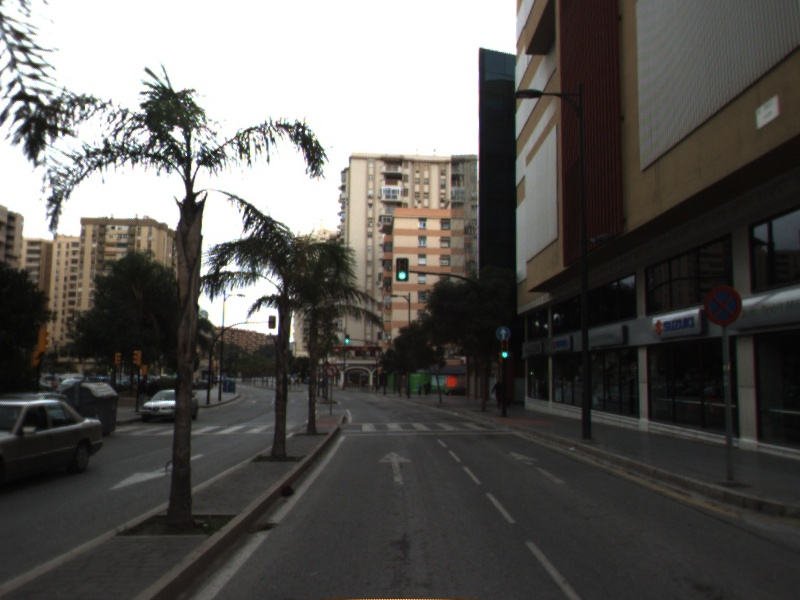STRAIGHT: (506, 448, 570, 486), (376, 448, 416, 488)
